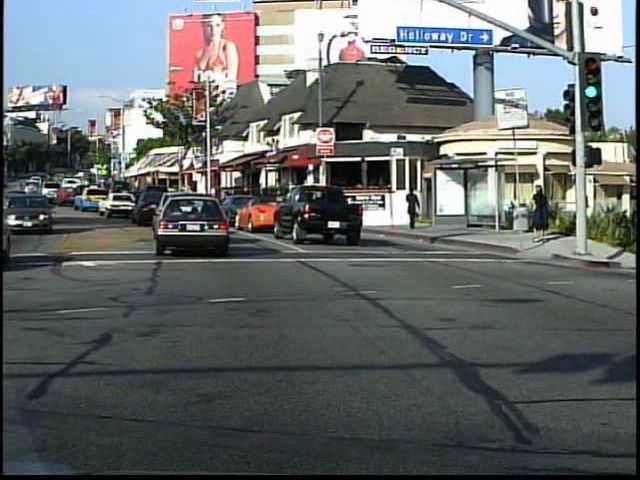person: (528, 181, 551, 246), (404, 185, 428, 234)
